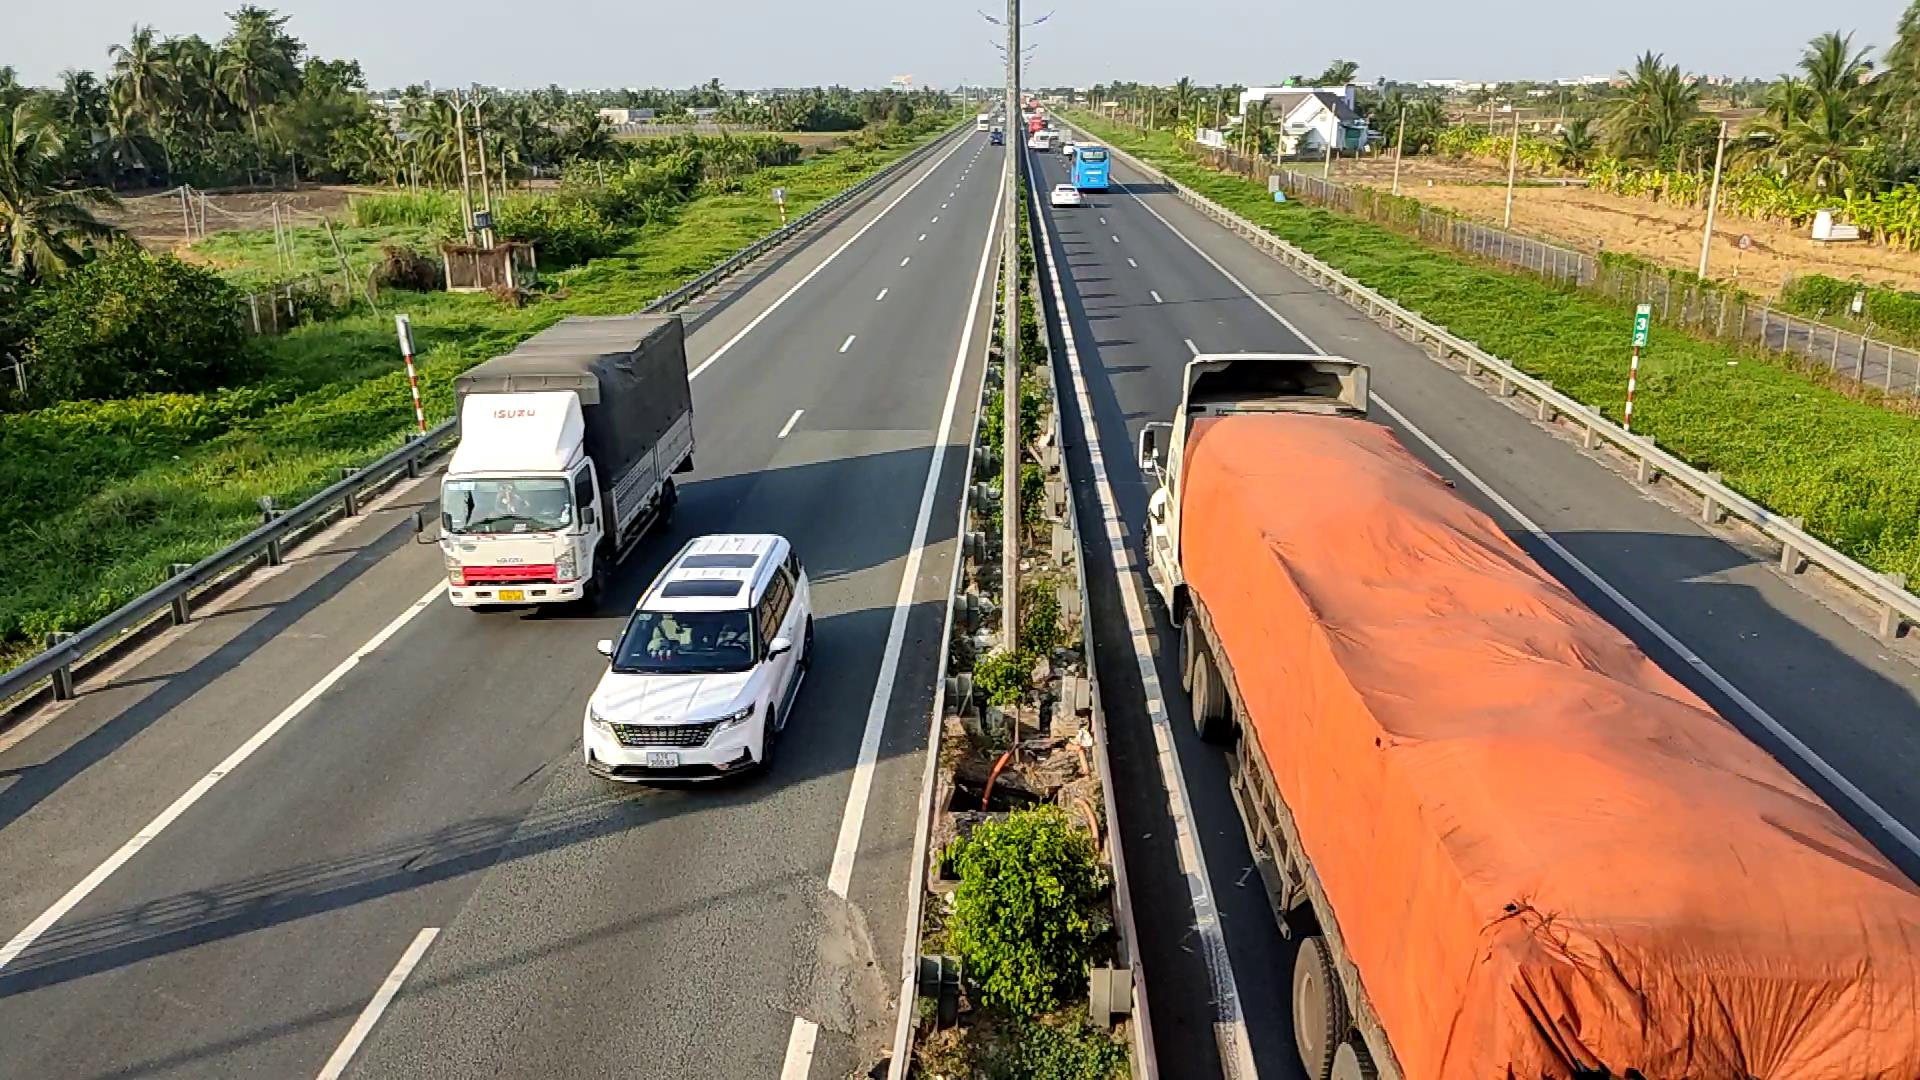car: (582, 531, 815, 785)
truck: (1139, 347, 1917, 1067), (435, 310, 696, 618)
